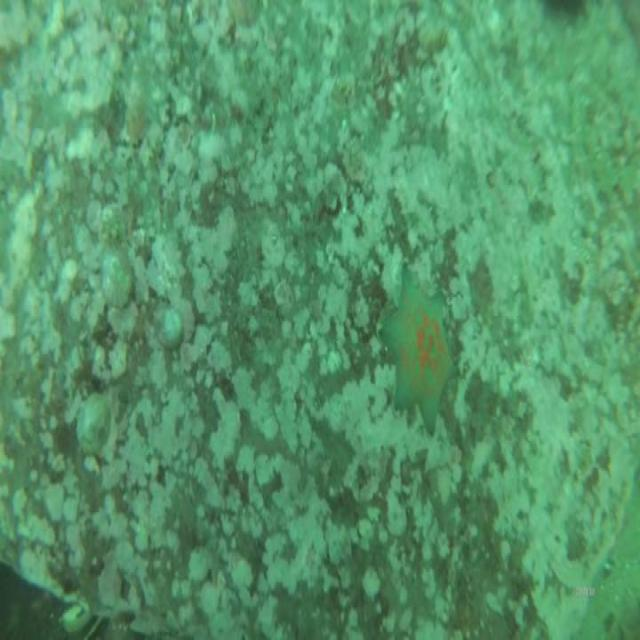starfish: (383, 272, 456, 433)
